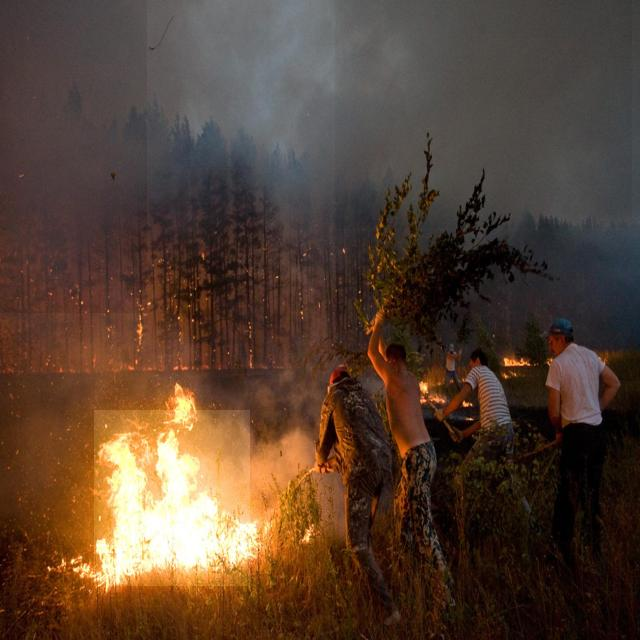Fire: (94, 410, 250, 586)
Smoke: (335, 0, 632, 228), (0, 0, 147, 313)
